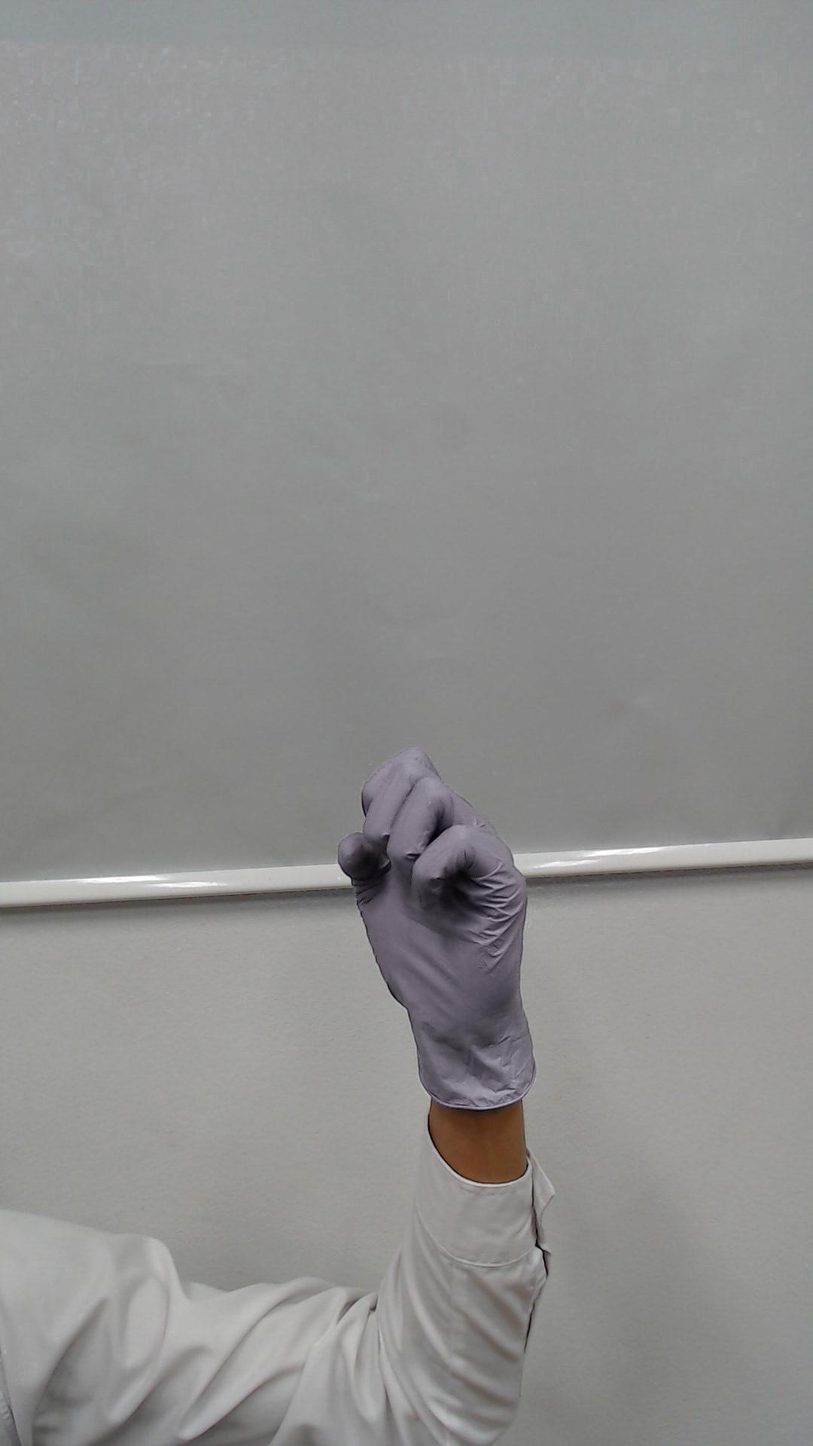gloves: (302, 715, 622, 1073)
